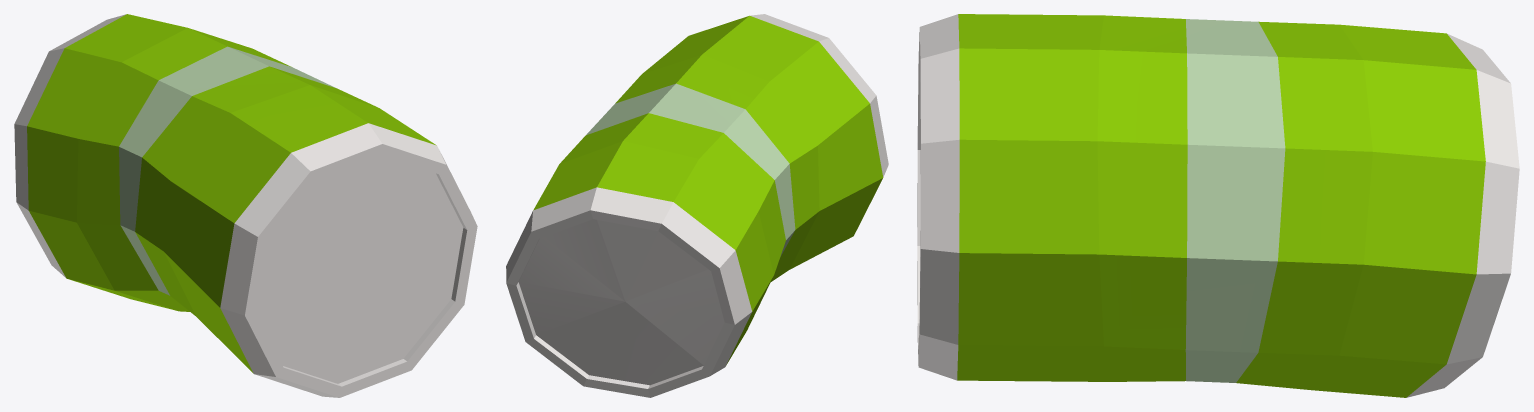
File: lattina_1.fbx
The picture shows the model from 3 angles, left to right: view 1: azimuth 30°, elevation 25°; view 2: azimuth 150°, elevation 25°; view 3: azimuth 270°, elevation 25°; orthographic projection. The views are drawn at different scales.
Parts seen in each view (by area): view 1: Cannette_01_001; view 2: Cannette_01_001; view 3: Cannette_01_001.
Boxes of the visible parts, x1=… form: Cannette_01_001: x1=14, y1=14, x2=477, y2=397; Cannette_01_001: x1=506, y1=14, x2=888, y2=397; Cannette_01_001: x1=917, y1=14, x2=1519, y2=397.
Size of the model in its own units: 183 by 180 by 278.
